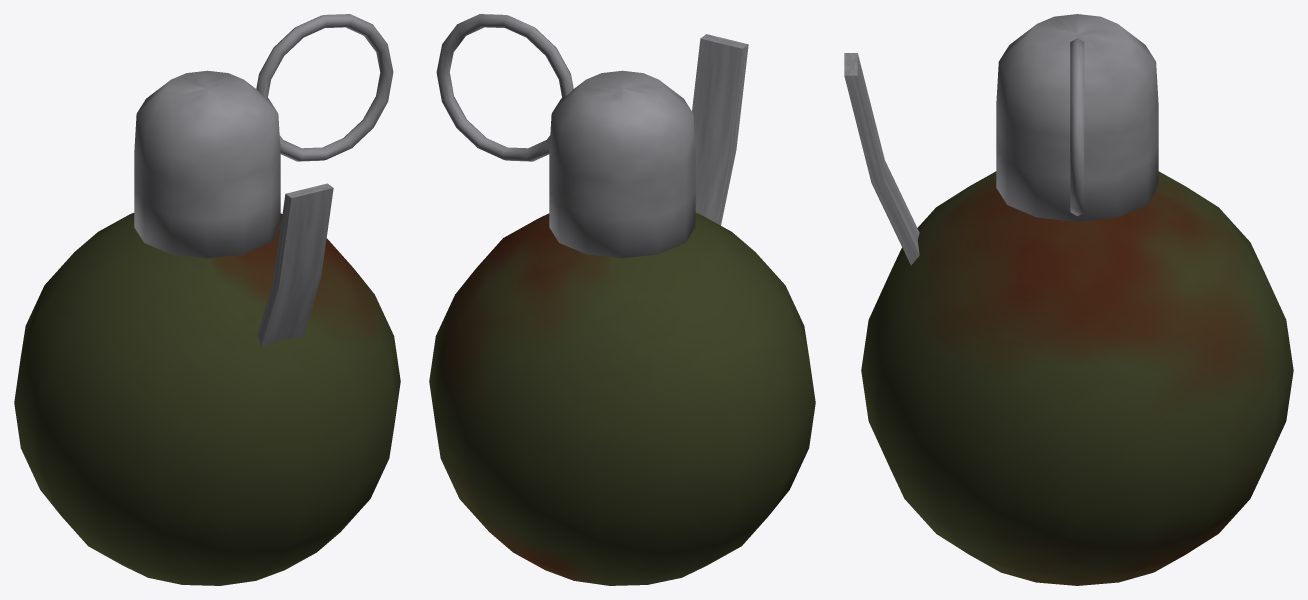
File: grenade_L1.glb
3 renders of one model, left to right at view 1: azimuth 30°, elevation 25°; view 2: azimuth 150°, elevation 25°; view 3: azimuth 270°, elevation 25°, orthographic. The views are drawn at different scales.
Visible parts, largest first — view 1: body, fuze, lever, pin; view 2: body, fuze, lever, pin; view 3: body, fuze, lever, pin.
Part boxes in pixels (box(x1,y1,x2,y2)): body: box(14, 213, 400, 585); fuze: box(134, 70, 280, 258); lever: box(257, 183, 333, 347); pin: box(256, 14, 393, 161); body: box(429, 213, 815, 585); fuze: box(549, 70, 695, 258); lever: box(692, 34, 748, 225); pin: box(436, 14, 573, 161); body: box(861, 171, 1293, 585); fuze: box(996, 14, 1158, 221); lever: box(844, 53, 919, 265); pin: box(1070, 38, 1084, 215).
Size of the model in its own units: 0.0672 by 0.0952 by 0.0665.
Materials: 2 (2 with a texture image).
